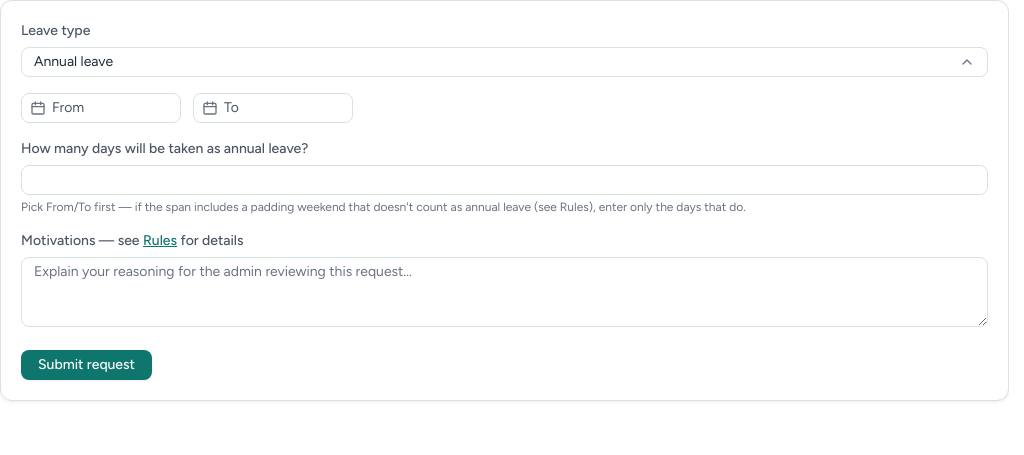
LeaveRequestForm › shows the block error inline when submission is rejected (e.g. double-booking)
In the date field labelled "From": (101,108) [21,93,181,123], type "2026-08-10"
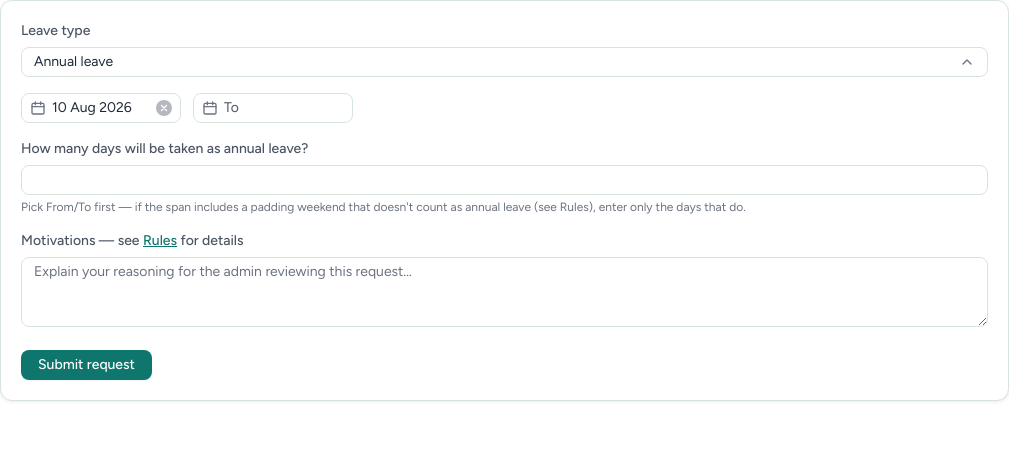
In the date field labelled "To": (273,108) [193,93,353,123], type "2026-08-14"
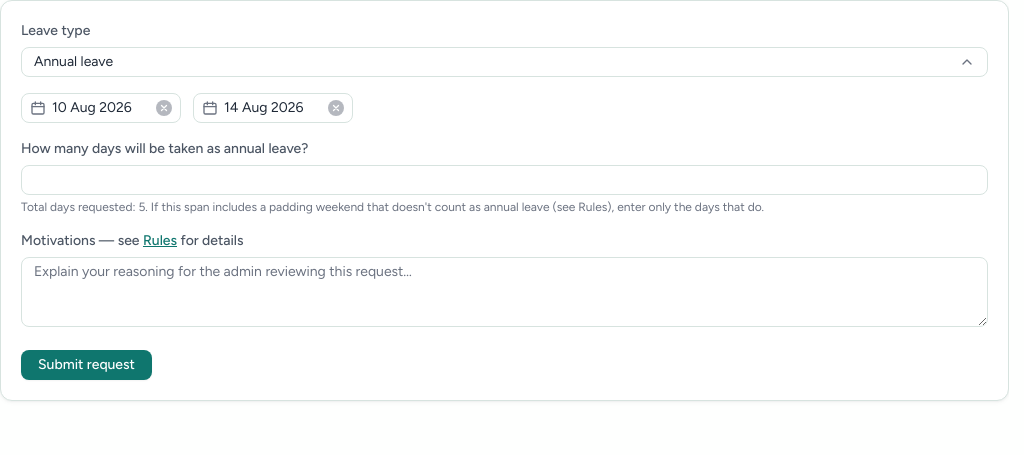
In the number field labelled "How many days will be taken as annual leave?": (504,180) [21,165,988,195], type "5"
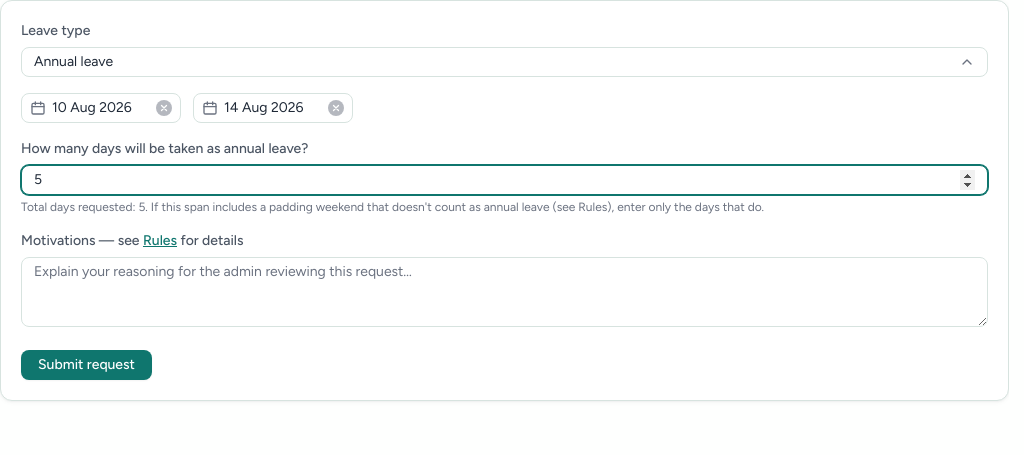
Click the button "Submit request": (86,365) [21,350,152,380]
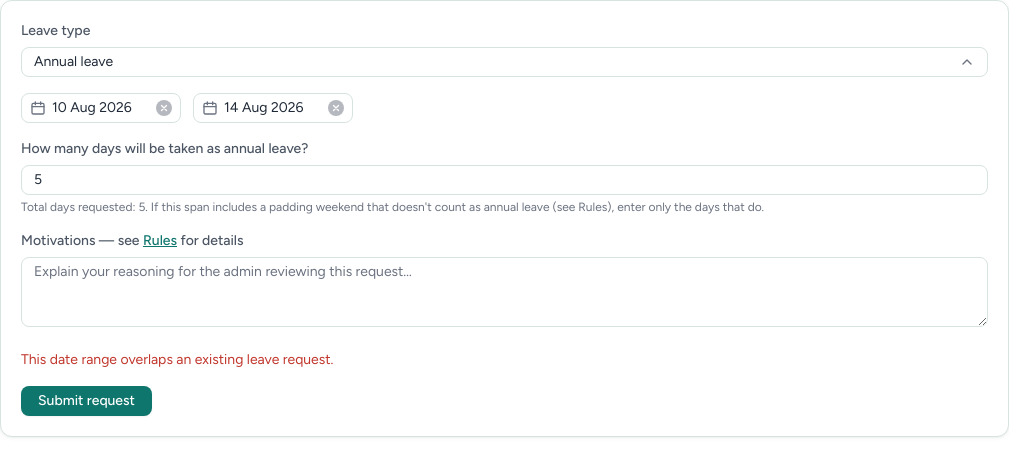
Expected: the text "This date range overlaps an existing leave request." is shown, [21,351,333,368]
